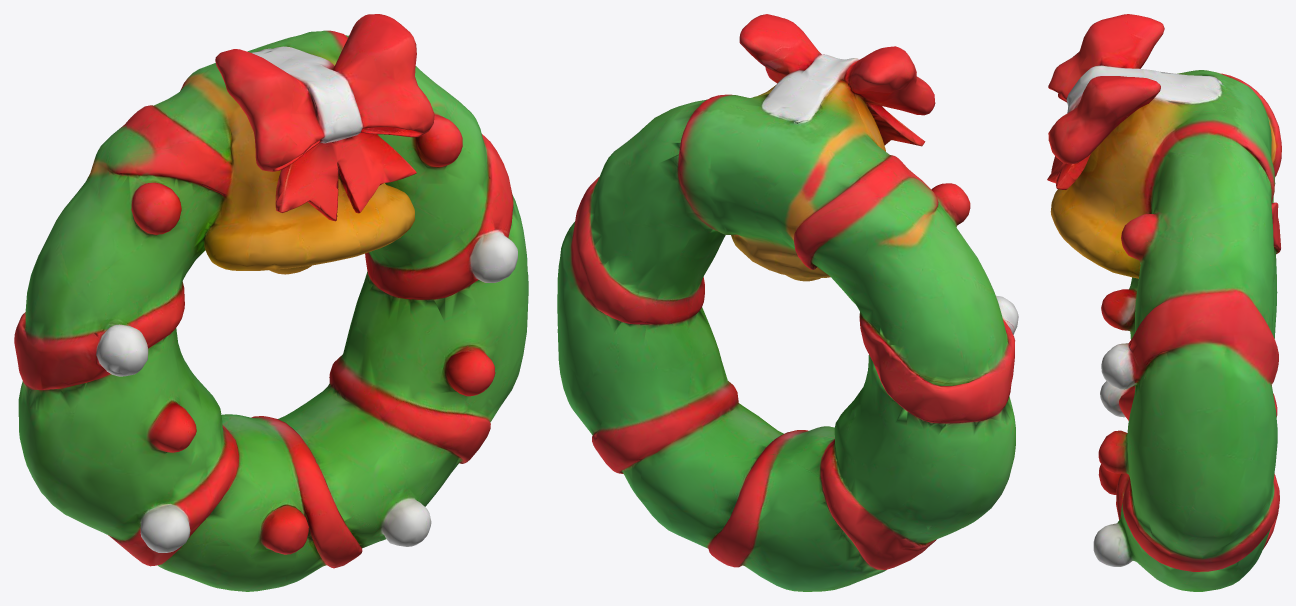
The model's file is leafWreath.glb.
3 views of the same model, side by side, from view 1: azimuth 30°, elevation 25°; view 2: azimuth 150°, elevation 25°; view 3: azimuth 270°, elevation 25° (orthographic). The views are drawn at different scales.
Bounding box in the file's own units: 0.8914 × 1 × 0.4049.
1 material, 1 textured.
